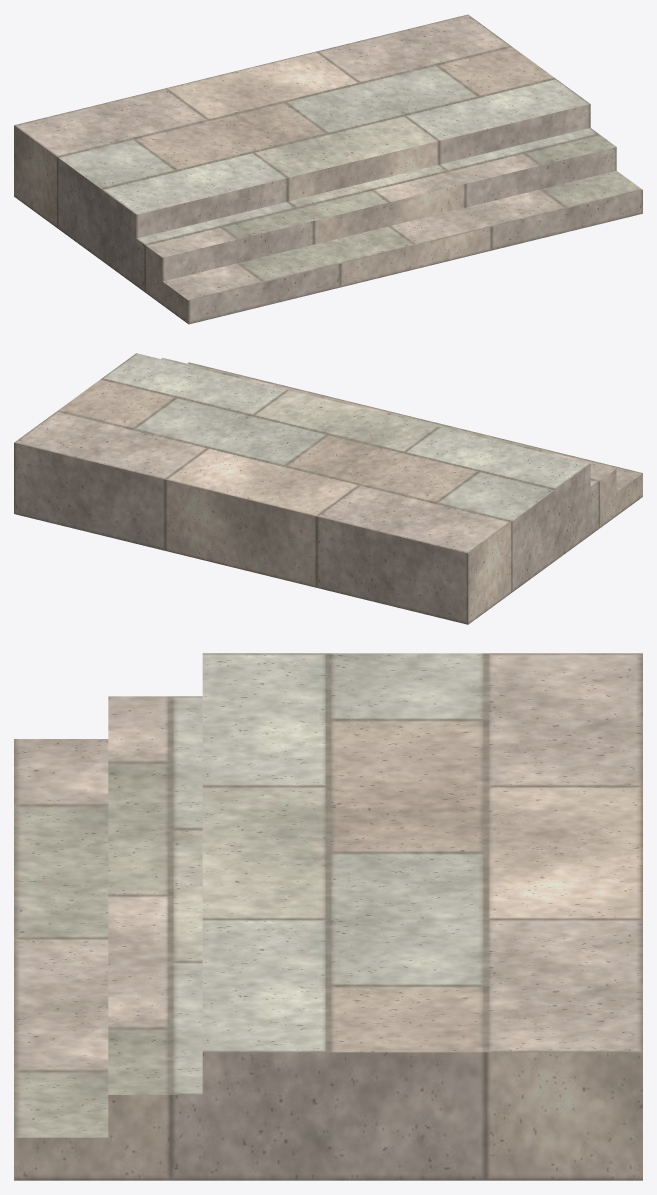
Rendered from entry_steps.glb.
3 views of the same model, one above another, from view 1: azimuth 30°, elevation 25°; view 2: azimuth 150°, elevation 25°; view 3: azimuth 270°, elevation 25° (orthographic). The views are drawn at different scales.
Parts seen in each view (by area): view 1: entry_steps_stone; view 2: entry_steps_stone; view 3: entry_steps_stone.
Boxes of the visible parts, bbox=[...] form: entry_steps_stone: bbox=[14, 14, 642, 324]; entry_steps_stone: bbox=[14, 353, 642, 624]; entry_steps_stone: bbox=[14, 653, 642, 1180].
Size of the model in its own units: 3 by 0.45 by 2.
1 material, 1 textured.
